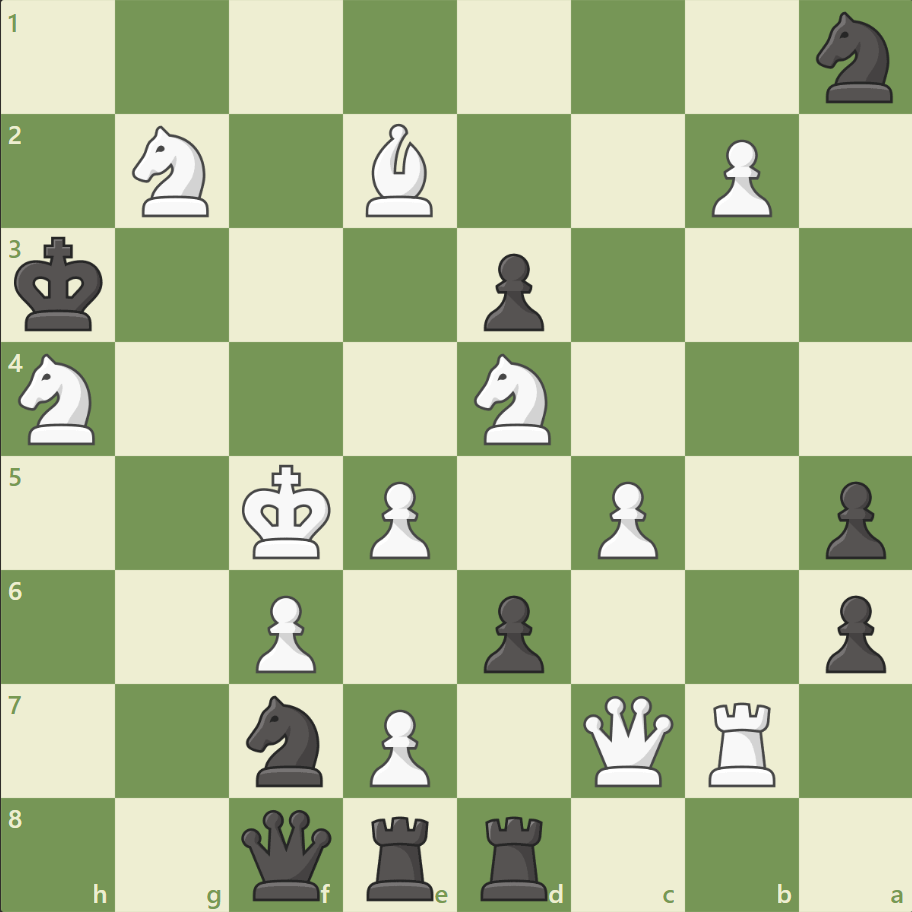B: (358, 120, 442, 222)
K: (238, 458, 338, 566)
N: (124, 121, 222, 223), (465, 348, 562, 450), (11, 348, 108, 450)
P: (247, 586, 322, 677), (701, 132, 776, 223), (361, 700, 435, 791), (588, 473, 662, 564), (361, 473, 435, 564)
Q: (578, 690, 677, 789)
R: (700, 693, 783, 790)
k: (11, 231, 111, 339)
n: (238, 688, 335, 791), (806, 7, 903, 110)
p: (474, 586, 549, 677), (474, 246, 549, 337), (815, 586, 889, 677), (815, 473, 889, 564)
q: (237, 804, 336, 903)
r: (473, 806, 556, 904), (360, 806, 442, 904)
